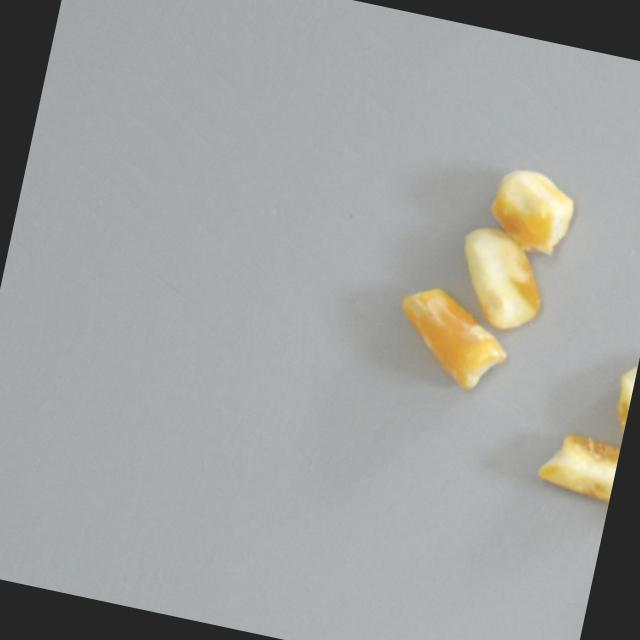estandar: (443, 222, 553, 333)
pelicula: (384, 279, 517, 397), (480, 161, 581, 258), (529, 423, 622, 505), (601, 352, 640, 457)
